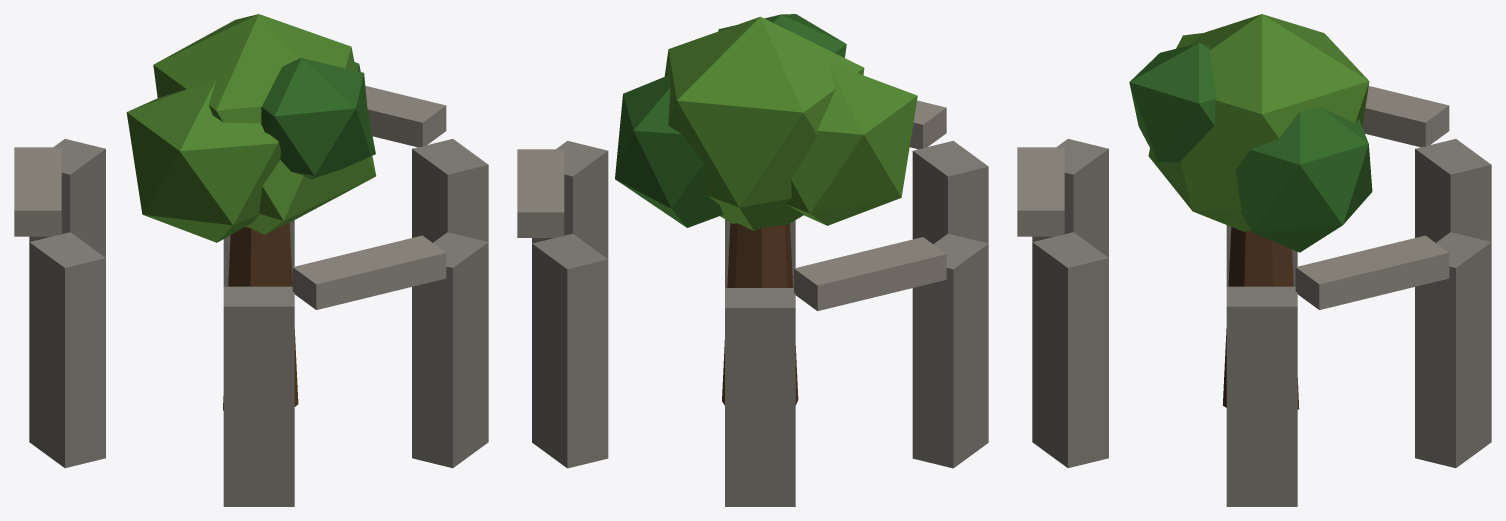
File: treekin_landmark.glb
The picture shows the model from 3 angles, left to right: view 1: azimuth 30°, elevation 25°; view 2: azimuth 150°, elevation 25°; view 3: azimuth 270°, elevation 25°; orthographic projection.
Parts seen in each view (by area): view 1: treekin_landmark; view 2: treekin_landmark; view 3: treekin_landmark.
Boxes of the visible parts, x1=… form: treekin_landmark: x1=14, y1=14, x2=488, y2=506; treekin_landmark: x1=517, y1=14, x2=988, y2=506; treekin_landmark: x1=1017, y1=14, x2=1491, y2=506.
Bounding box in the file's own units: 3.16 × 2.72 × 3.
